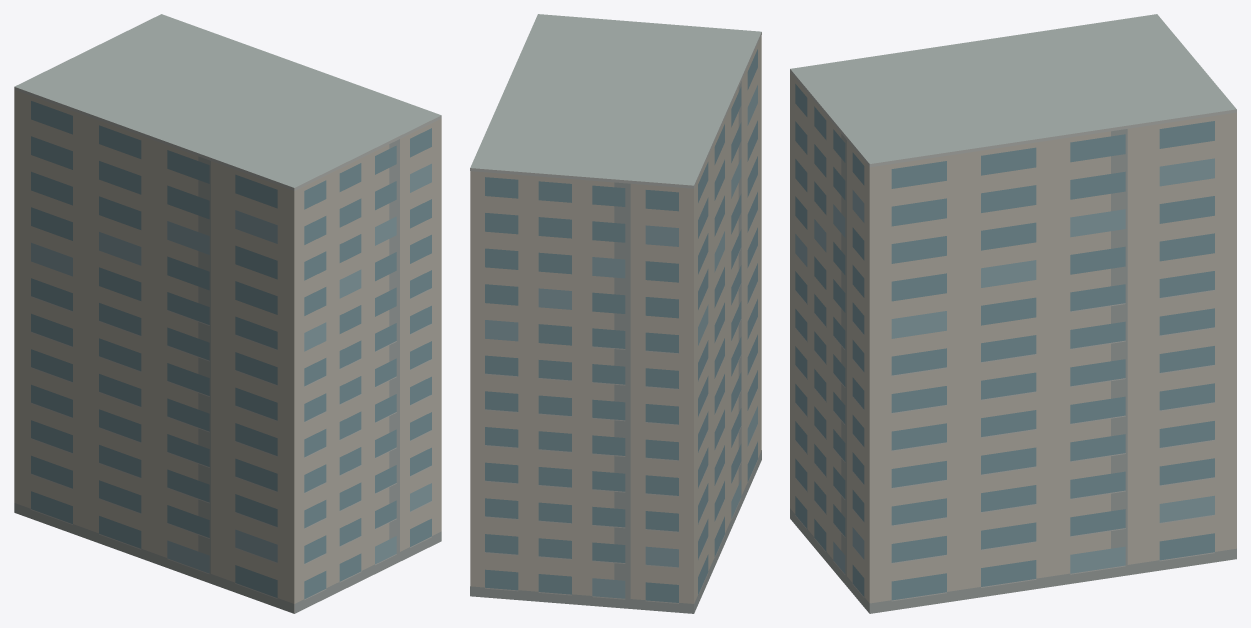
The model's file is residential-3a9f5f2e-33ca-44db-9929-5a913ca5e201.glb.
3 views of the same model, side by side, from view 1: azimuth 30°, elevation 25°; view 2: azimuth 150°, elevation 25°; view 3: azimuth 270°, elevation 25° (orthographic). The views are drawn at different scales.
Parts seen in each view (by area): view 1: residential-3a9f5f2e-33ca-44db-9929-5a913ca5e201.tmp; view 2: residential-3a9f5f2e-33ca-44db-9929-5a913ca5e201.tmp; view 3: residential-3a9f5f2e-33ca-44db-9929-5a913ca5e201.tmp.
Boxes of the visible parts, x1,y1,x2,y2 form: residential-3a9f5f2e-33ca-44db-9929-5a913ca5e201.tmp: (14,14,441,613); residential-3a9f5f2e-33ca-44db-9929-5a913ca5e201.tmp: (470,14,761,613); residential-3a9f5f2e-33ca-44db-9929-5a913ca5e201.tmp: (790,14,1236,613).
Size of the model in its own units: 24.35 by 34 by 30.61.
